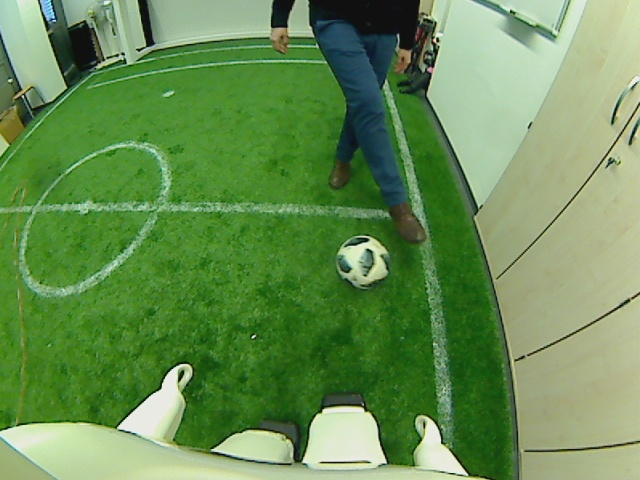ball: (334, 232, 392, 289)
